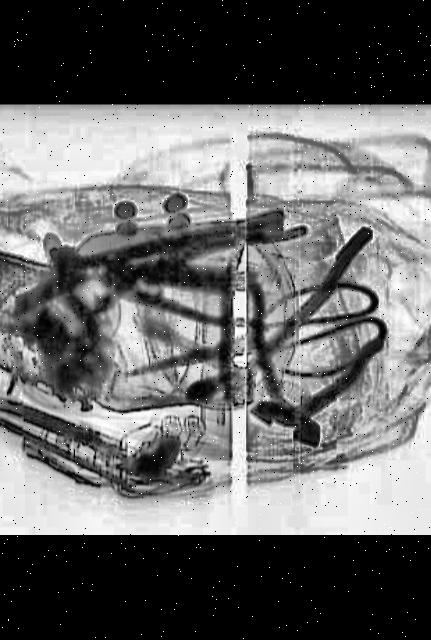Scissors: (106, 270, 405, 419)
